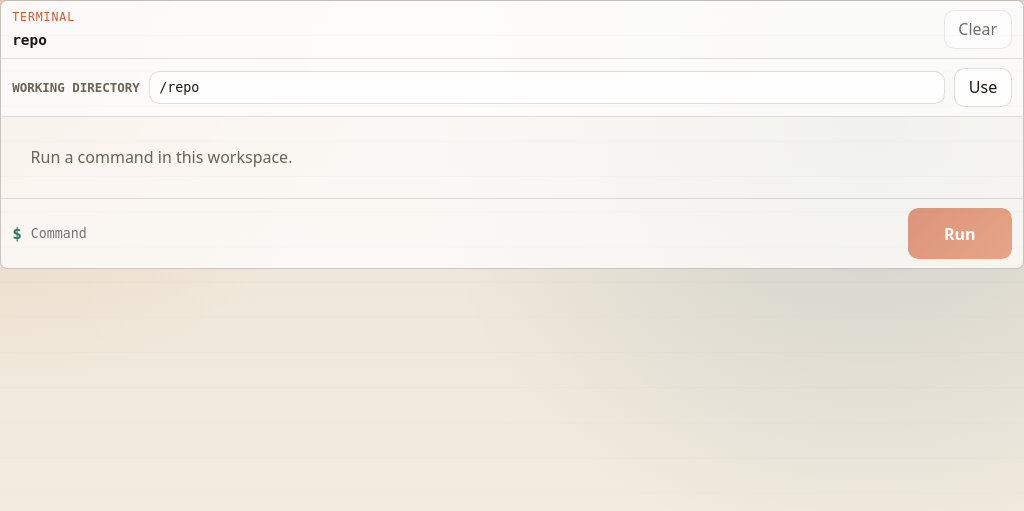
Test: TerminalPanel › adds retry guidance for terminal rate limits
The width and height of the screenshot is (1024, 511).
Type "npm test" into the field named "Terminal command" at (465, 234), box [31,216,899,251]
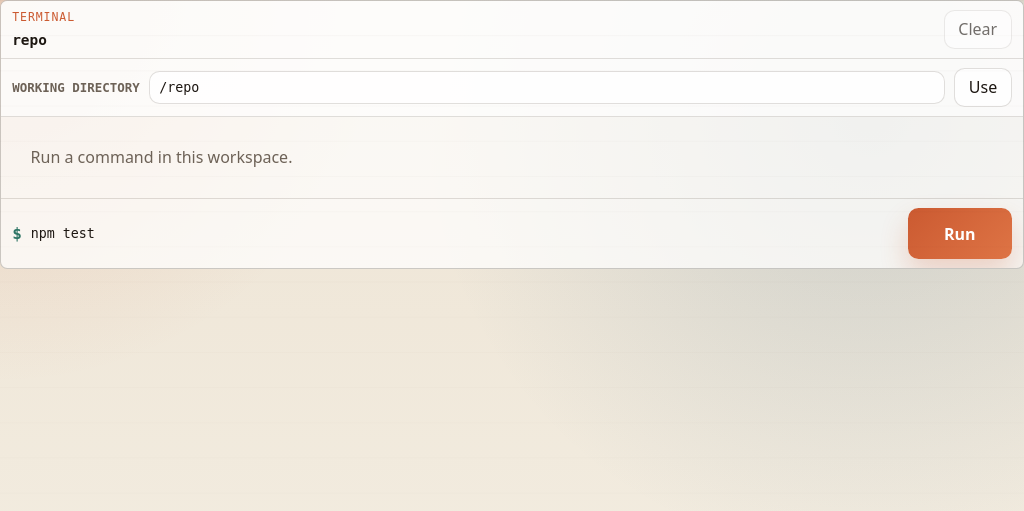
Click the button "Run" at (960, 234), box [908,208,1012,259]
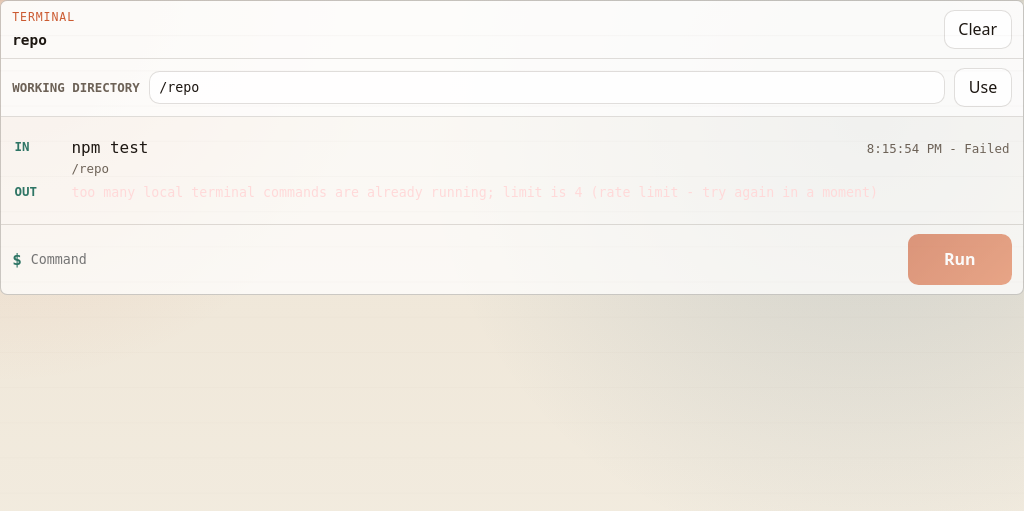
Check: the text "too many local terminal commands are already running; limit is 4 (rate limit - try again in a moment)" is shown, box [71,185,878,200]
